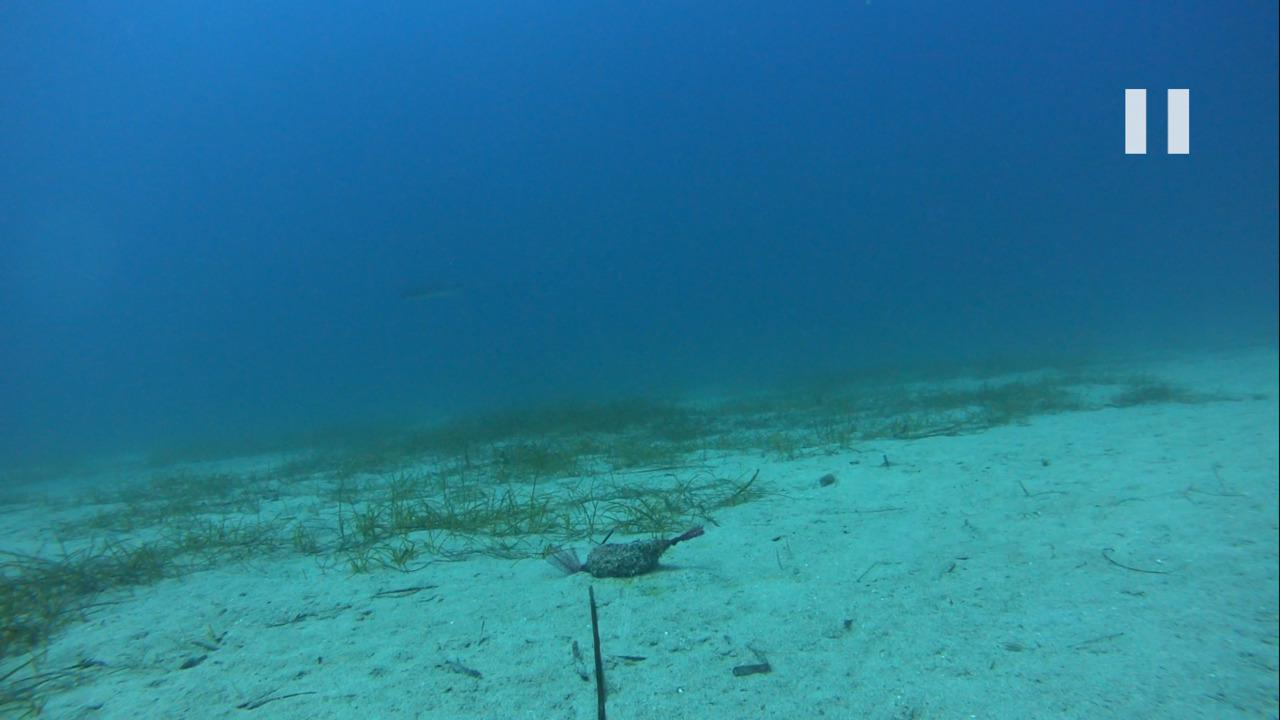myliobatis: (389, 261, 513, 311)
